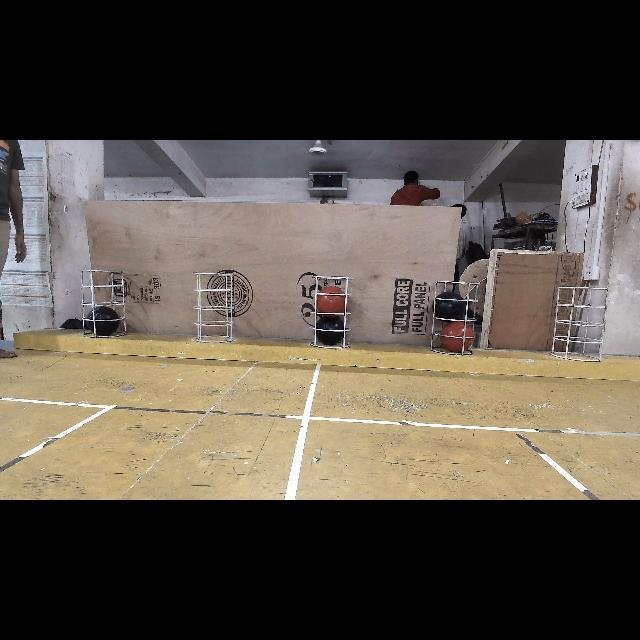P: (86, 306, 120, 336), (316, 318, 348, 346), (434, 294, 466, 320)
R: (440, 322, 476, 352), (316, 287, 346, 317)
S: (550, 289, 612, 363), (78, 263, 140, 333), (426, 276, 478, 352), (192, 266, 240, 346), (308, 272, 350, 350)
